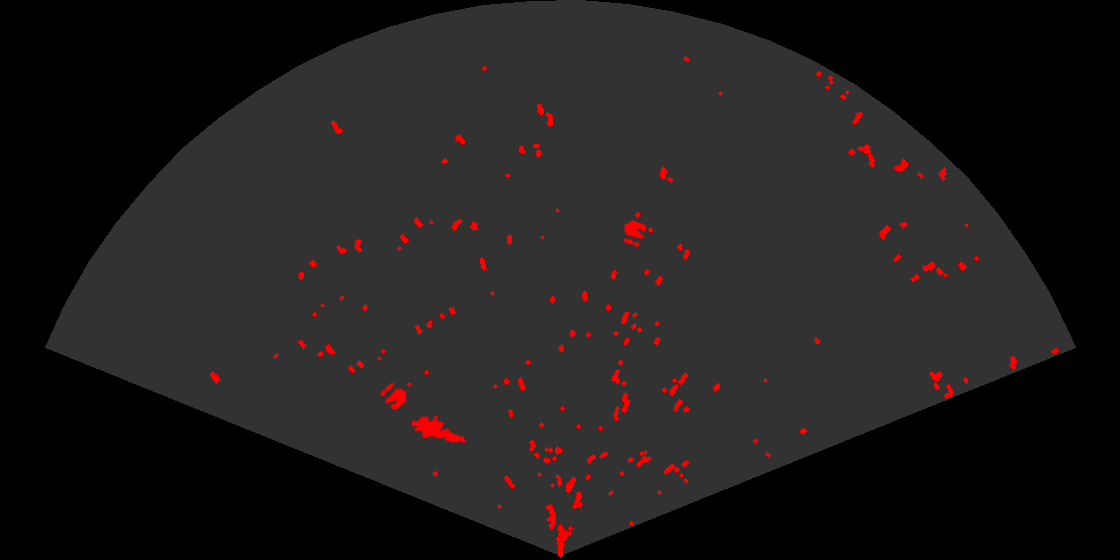ball: (379, 381, 408, 411), (621, 218, 649, 249)
frogman: (412, 413, 467, 444)
